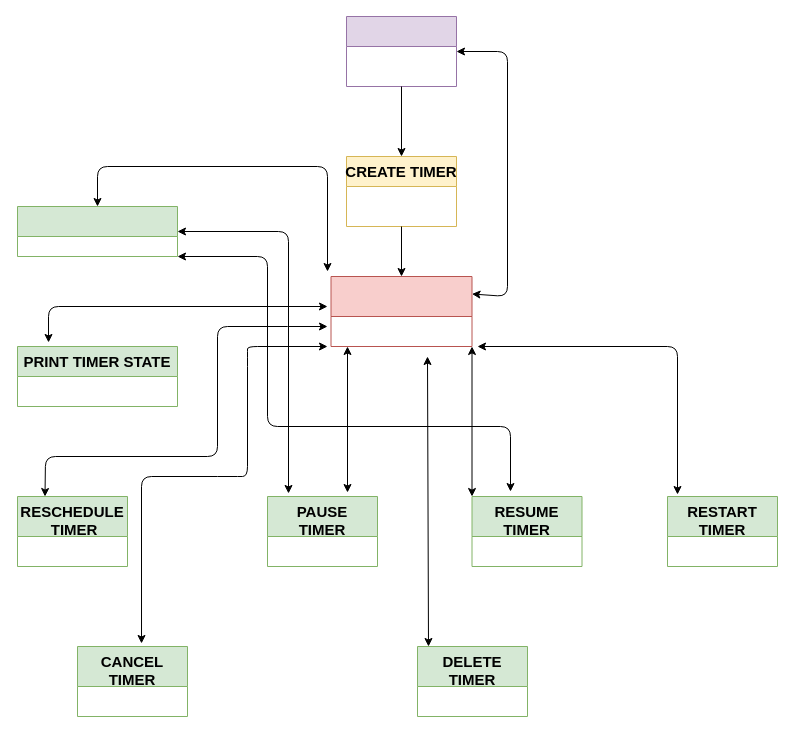
This 794x733 diagram has some shape labels left out. The box of each missing label's shape, as (x1, y1, x2, y2) in pixels:
GET REMAINING TIME: (16, 206, 178, 256)
TIMER INTERFACE: (330, 276, 472, 346)
USER: (346, 16, 456, 86)
